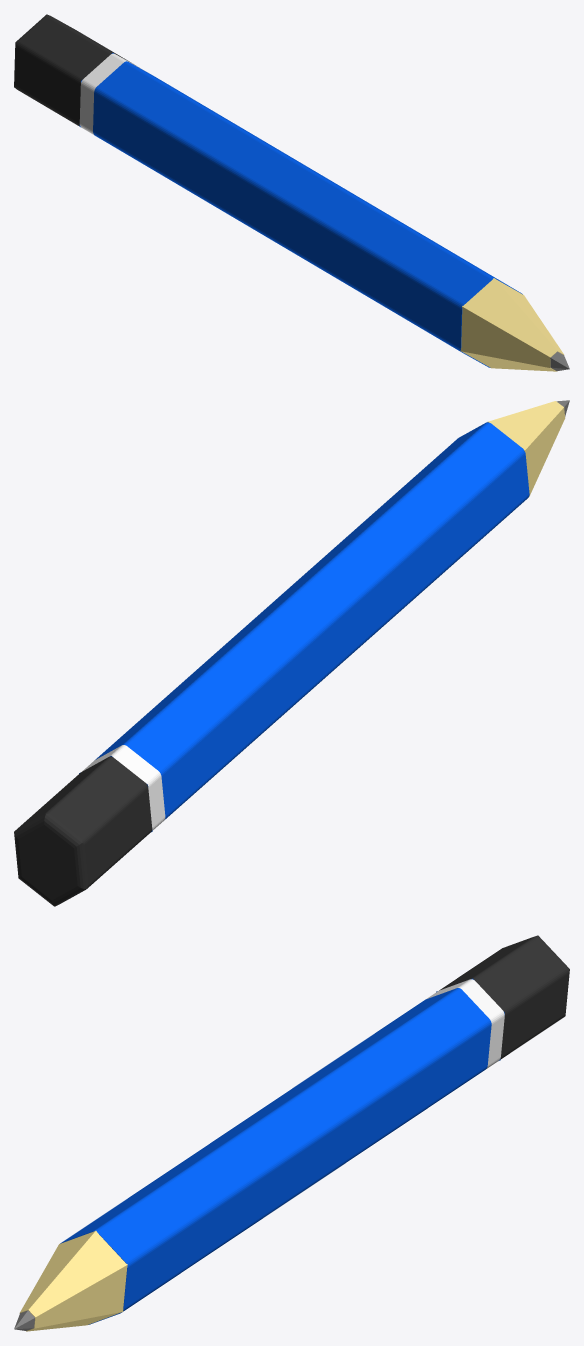
File: pen.fbx
3 renders of one model, top to bottom at view 1: azimuth 30°, elevation 25°; view 2: azimuth 150°, elevation 25°; view 3: azimuth 330°, elevation 25°, orthographic. The views are drawn at different scales.
Visible parts, largest first — view 1: _gltfNode_1; view 2: _gltfNode_1; view 3: _gltfNode_1.
Boxes of the visible parts, x1,y1,x2,y2 form: _gltfNode_1: (14, 14, 569, 371); _gltfNode_1: (14, 400, 569, 906); _gltfNode_1: (14, 935, 569, 1331).
Size of the model in its own units: 232 by 345 by 2413.
